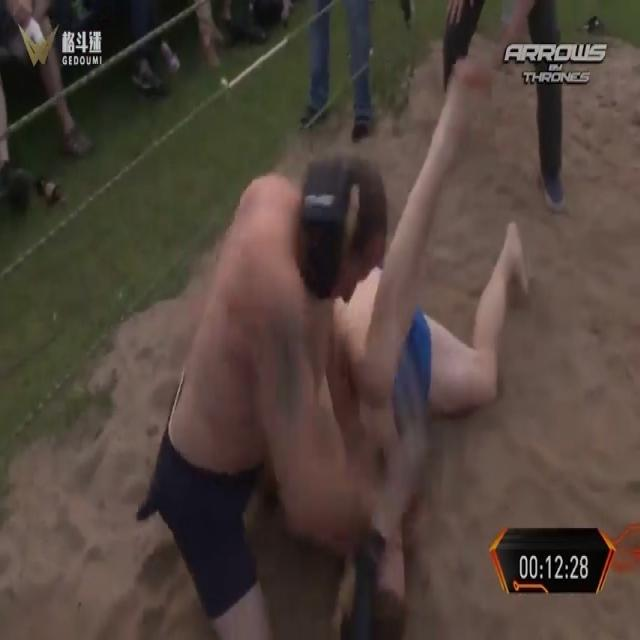fight: (146, 45, 532, 640)
